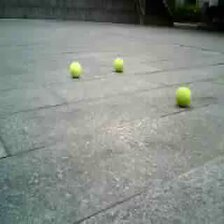tennis: (176, 87, 191, 105), (69, 62, 83, 77), (113, 59, 123, 72)
